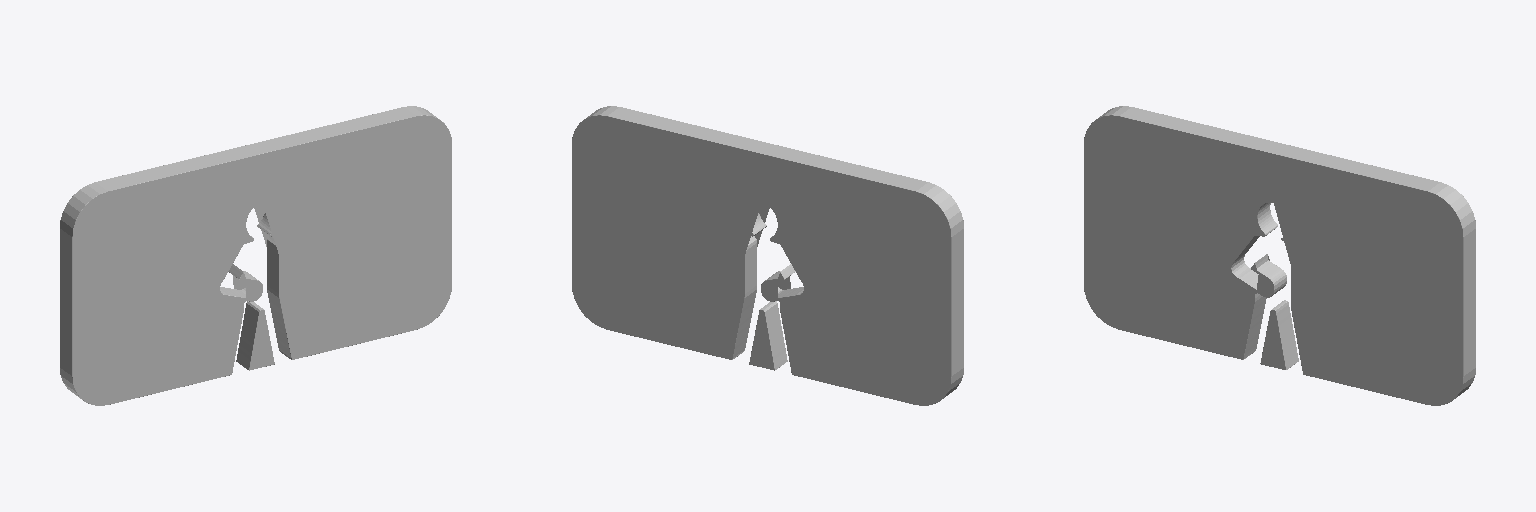
The picture shows the model from 3 angles: view 1: azimuth 30°, elevation 25°; view 2: azimuth 150°, elevation 25°; view 3: azimuth 330°, elevation 25°; orthographic projection.
Parts seen in each view (by area): view 1: wall_39; view 2: wall_39; view 3: wall_39.
Boxes of the visible parts, x1=… form: wall_39: x1=60, y1=106, x2=451, y2=405; wall_39: x1=572, y1=106, x2=963, y2=405; wall_39: x1=1084, y1=106, x2=1475, y2=405.
Bounding box in the file's own units: 12 × 6.45 × 0.7.